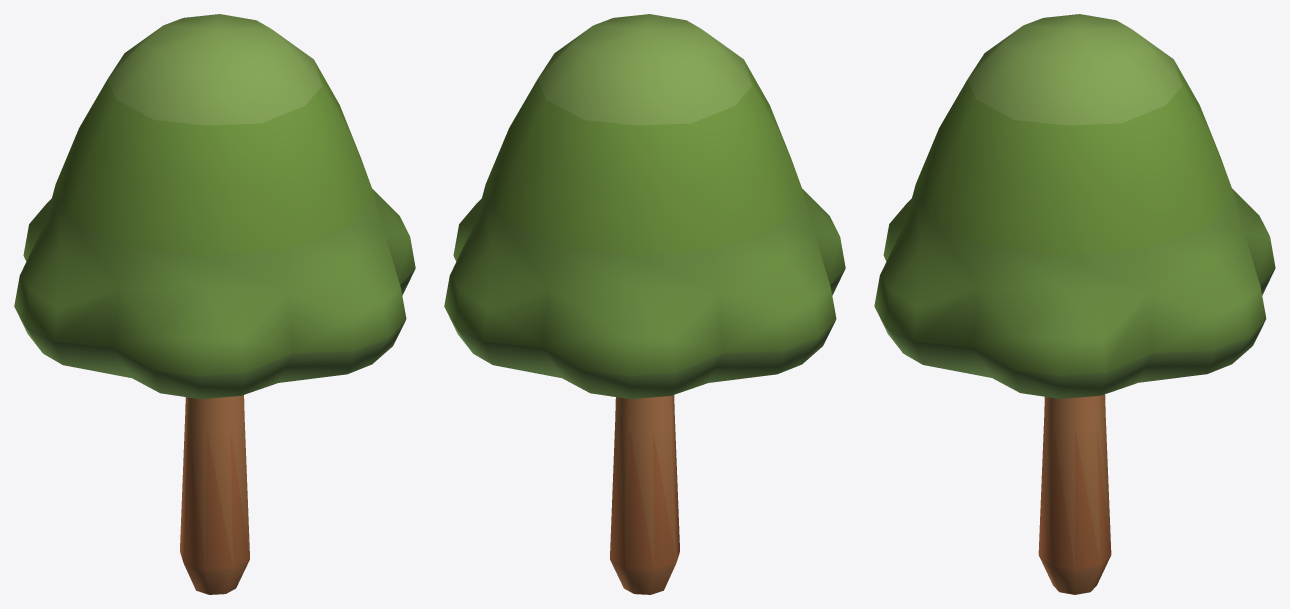
The model's file is itch_tiny_pretty_park_tree.glb.
The picture shows the model from 3 angles, left to right: view 1: azimuth 30°, elevation 25°; view 2: azimuth 150°, elevation 25°; view 3: azimuth 270°, elevation 25°; orthographic projection.
Visible parts, largest first — view 1: tree; view 2: tree; view 3: tree.
Boxes of the visible parts, x1,y1,x2,y2 form: tree: (14, 14, 415, 594); tree: (444, 14, 845, 594); tree: (874, 14, 1275, 594).
Size of the model in its own units: 1.22 by 1.78 by 1.16.
